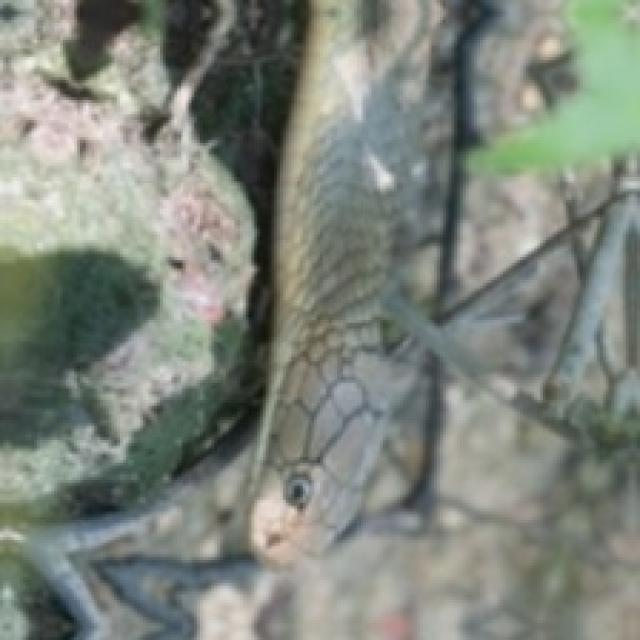king cobra: (0, 0, 306, 637)
